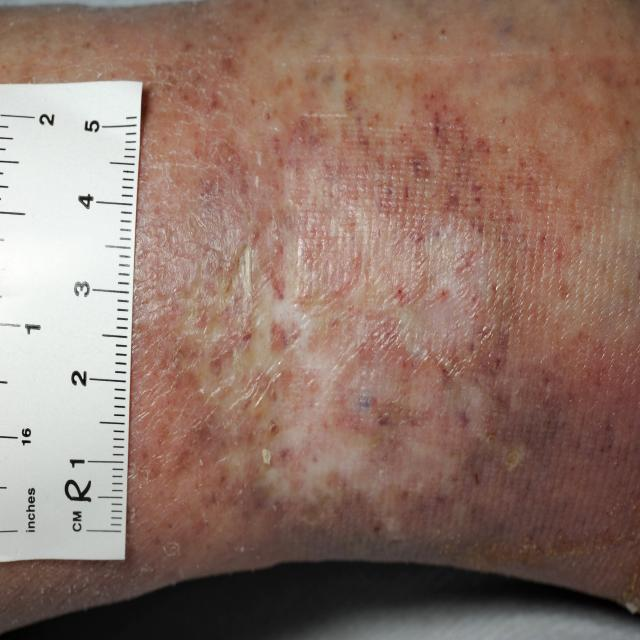wound: (142, 129, 590, 519)
